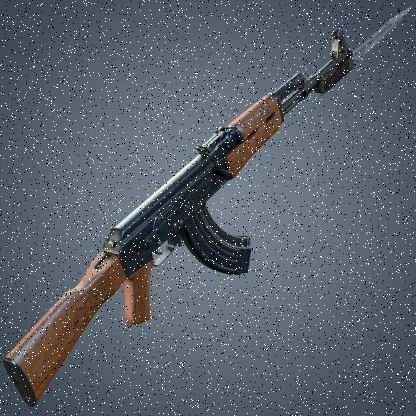rifle: (6, 22, 367, 416)
